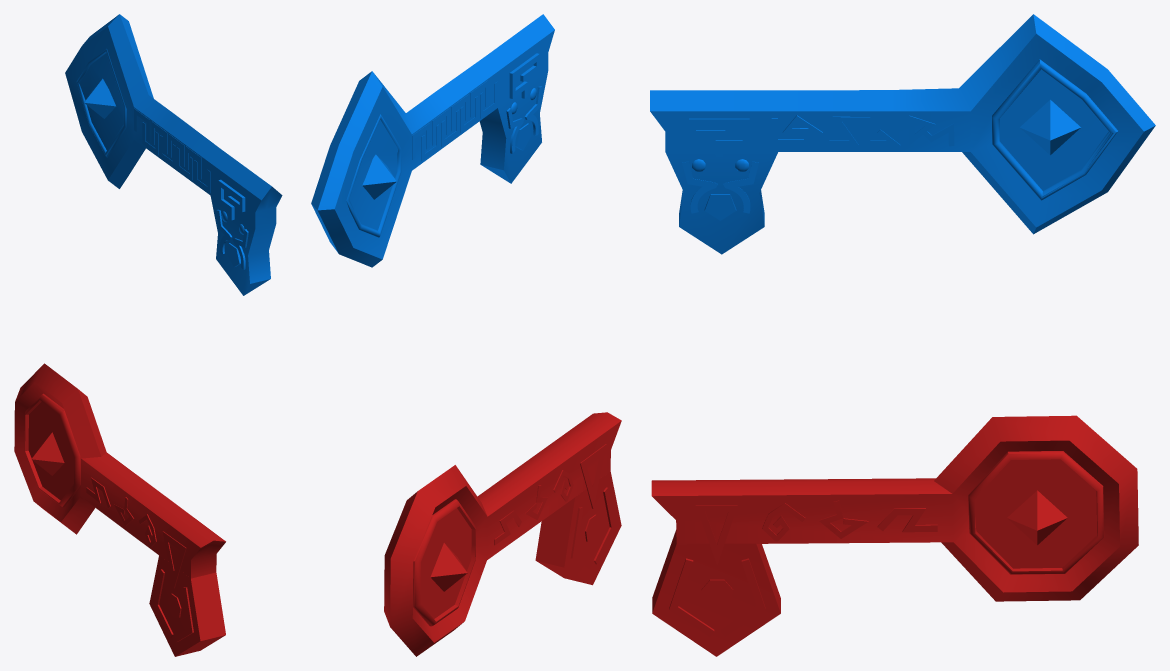
File: keys.fbx
3 views of the same model, side by side, from view 1: azimuth 30°, elevation 25°; view 2: azimuth 150°, elevation 25°; view 3: azimuth 270°, elevation 25° (orthographic). The views are drawn at different scales.
Visible parts, largest first — view 1: blue_key, red_key, Cylinder_1_2, Sphere_1, Sphere_3, Sweep_26, Sweep_1; view 2: blue_key, red_key, Cylinder_1_2, Sphere_1, Sphere_3, Sweep_26, Sweep_1, Sweep_1_4; view 3: blue_key, red_key, Cylinder_1_2, Sphere_3, Sphere_1, Sweep_9, Sweep, Sweep_1_6, Sweep_6_3, Sweep_2, Cylinder_1, Sphere_2 (+1 smaller).
Part boxes in pixels (x1=…): blue_key: x1=65, y1=14, x2=282, y2=295; red_key: x1=14, y1=363, x2=225, y2=578; Cylinder_1_2: x1=149, y1=555, x2=225, y2=656; Sphere_1: x1=31, y1=432, x2=64, y2=475; Sphere_3: x1=84, y1=78, x2=116, y2=118; Sweep_26: x1=218, y1=179, x2=245, y2=220; Sweep_1: x1=162, y1=531, x2=186, y2=588; blue_key: x1=311, y1=14, x2=554, y2=267; red_key: x1=384, y1=412, x2=621, y2=656; Cylinder_1_2: x1=535, y1=471, x2=621, y2=585; Sphere_1: x1=430, y1=543, x2=467, y2=591; Sphere_3: x1=362, y1=154, x2=396, y2=199; Sweep_26: x1=509, y1=53, x2=539, y2=98; Sweep_1: x1=580, y1=444, x2=606, y2=508; Sweep_1_4: x1=593, y1=487, x2=615, y2=564; blue_key: x1=650, y1=14, x2=1155, y2=254; red_key: x1=651, y1=415, x2=1138, y2=601; Cylinder_1_2: x1=652, y1=530, x2=780, y2=656; Sphere_3: x1=1020, y1=99, x2=1080, y2=155; Sphere_1: x1=1007, y1=490, x2=1067, y2=545; Sweep_9: x1=689, y1=118, x2=749, y2=157; Sweep: x1=695, y1=505, x2=737, y2=564; Sweep_1_6: x1=669, y1=558, x2=714, y2=636; Sweep_6_3: x1=720, y1=558, x2=765, y2=636; Sweep_2: x1=877, y1=508, x2=937, y2=532; Cylinder_1: x1=701, y1=579, x2=733, y2=608; Sphere_2: x1=682, y1=159, x2=717, y2=213.
Bounding box in the file's own units: 21.84 × 96.5 × 65.97.
